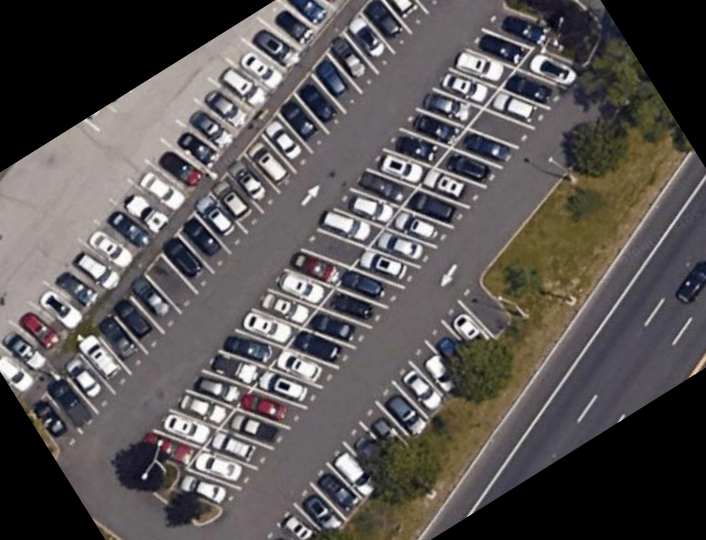parkingspot: (120, 4, 592, 514), (25, 0, 443, 462), (0, 0, 349, 402), (261, 274, 516, 540)
